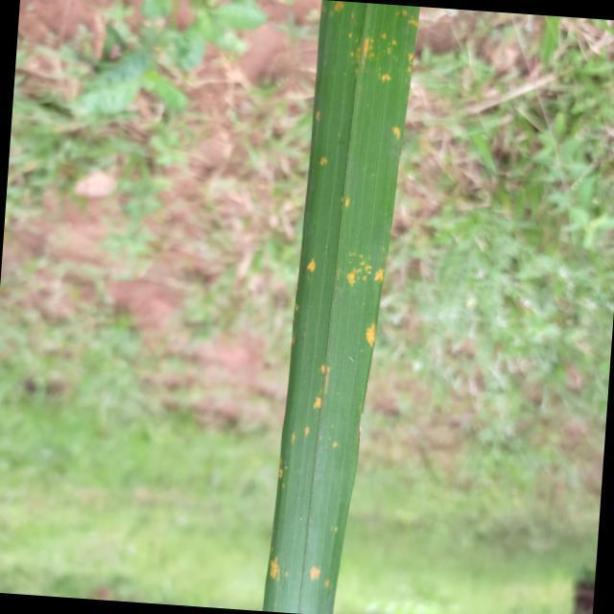Kalium: (262, 0, 421, 614)
